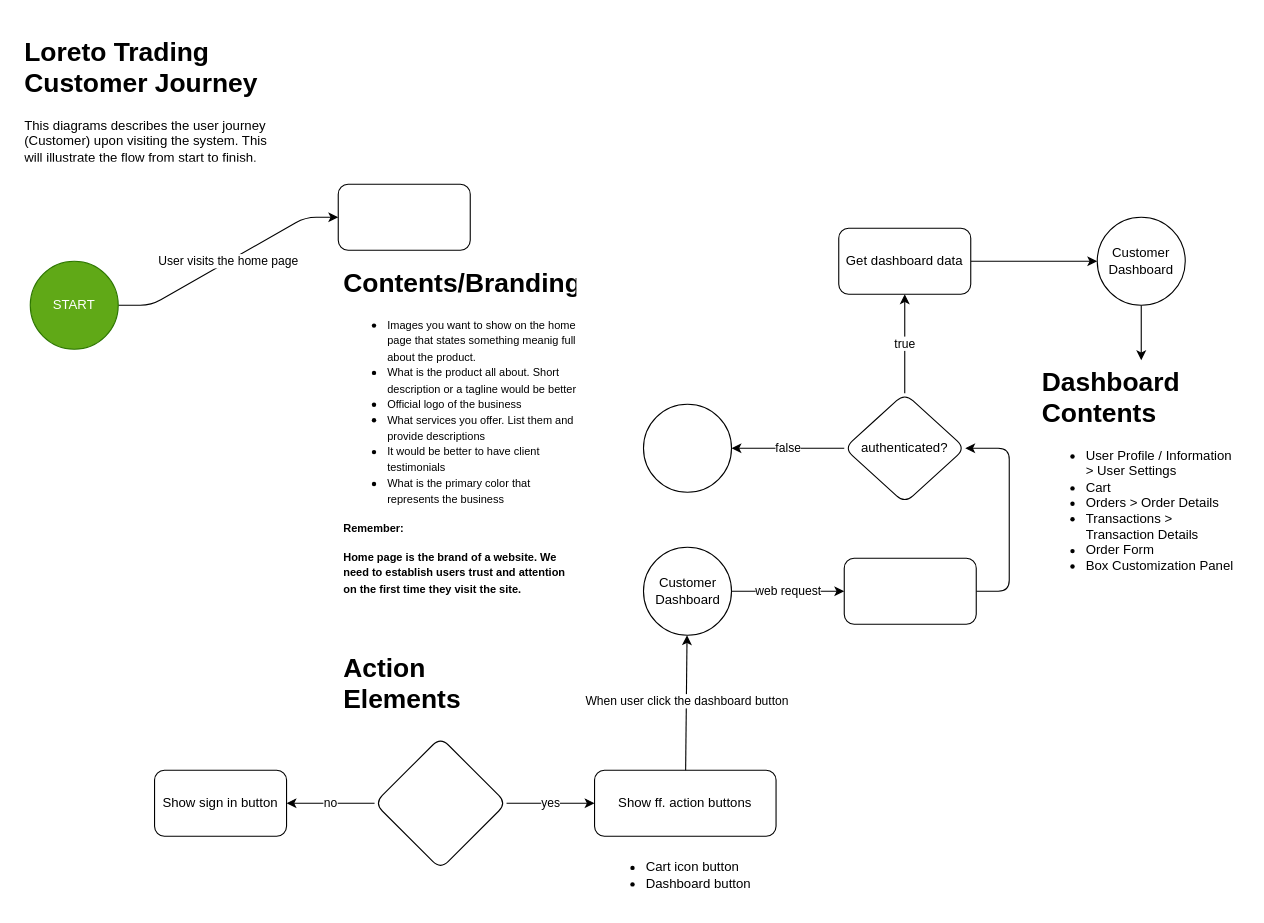
Image size: 1264x923. Some labels were removed from this diagram. The shapes that lost their labels are listed below. From the top down, each one's centre as x and y in pixels, then its label:
At point 403,216: "Home Page".
At point 687,447: "Sign in Page".
At point 909,590: "Authenticate User".
At point 440,802: "user has active session on the browser?".
